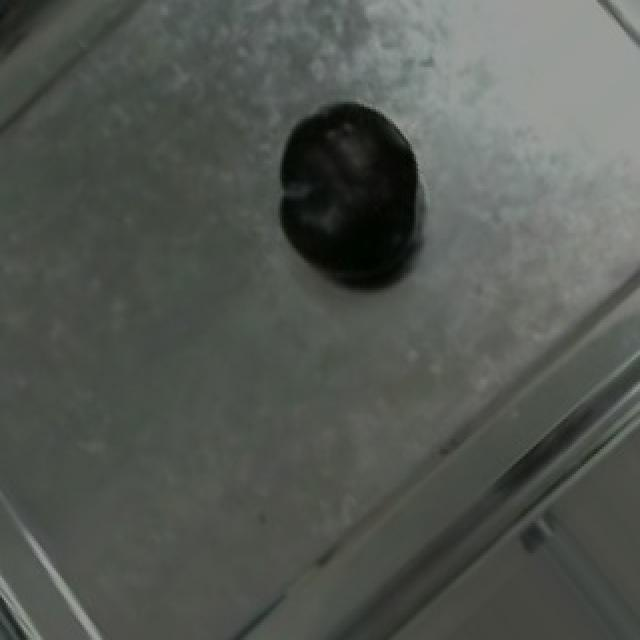Fruit: (262, 84, 440, 298)
